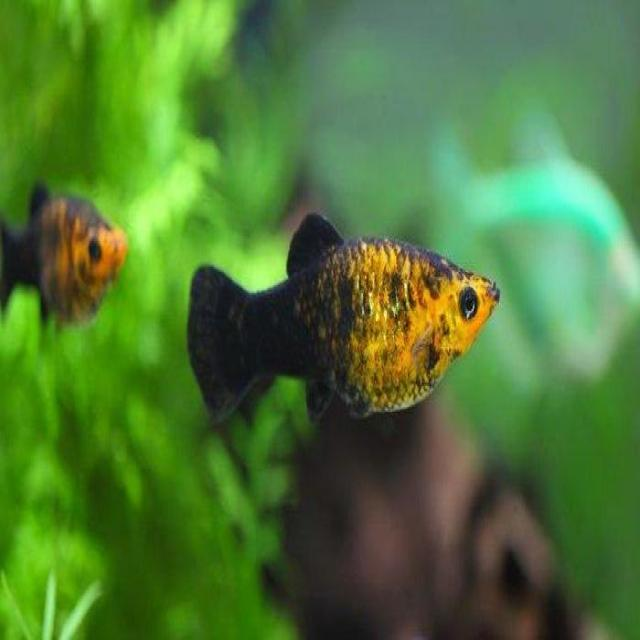PlatyFish: (179, 203, 507, 437), (0, 172, 135, 350)
